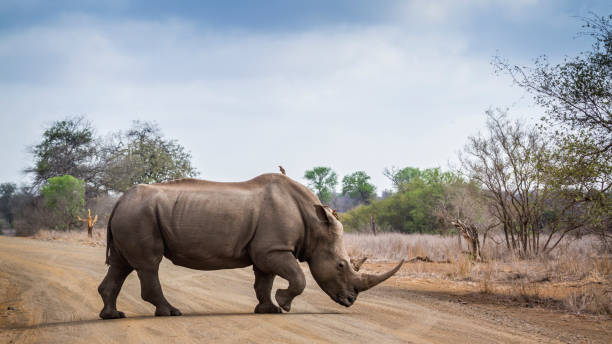rhino: (300, 196, 420, 320)
